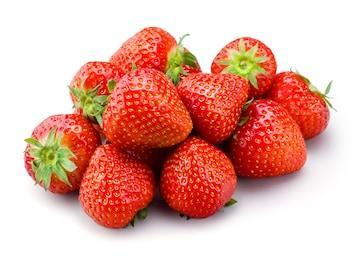Fresa: (105, 63, 195, 156), (77, 139, 160, 233), (227, 95, 311, 184), (159, 130, 240, 222), (22, 109, 104, 198), (175, 66, 252, 147), (265, 67, 332, 146), (207, 34, 278, 99), (104, 24, 182, 81)
